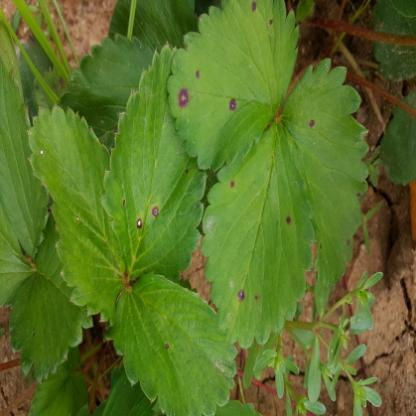Strawberry_Leaf_Spot: (200, 116, 314, 349), (100, 41, 208, 283), (277, 57, 372, 318), (166, 0, 300, 172), (27, 104, 125, 323), (104, 274, 240, 415)
